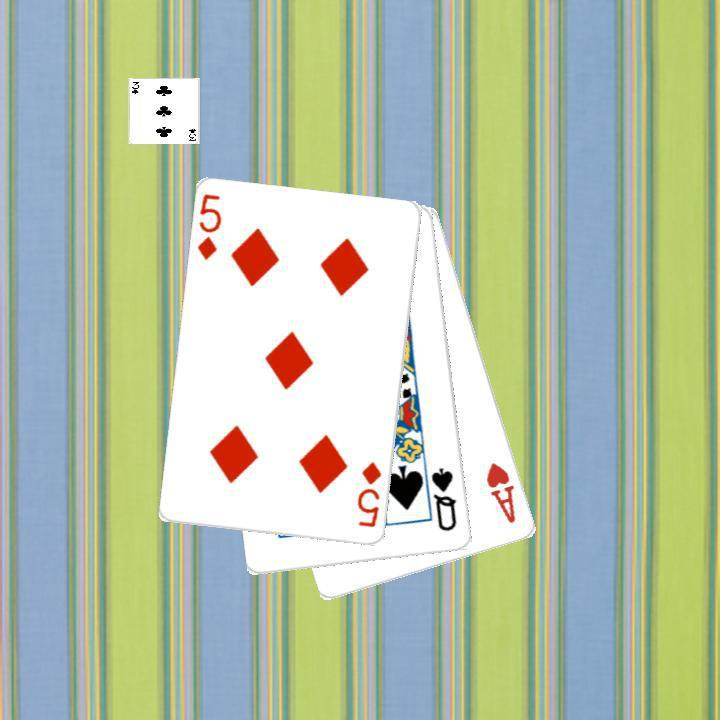5: (193, 190, 224, 263), (353, 458, 384, 530)
A: (482, 458, 518, 526)
Q: (427, 463, 459, 534)
